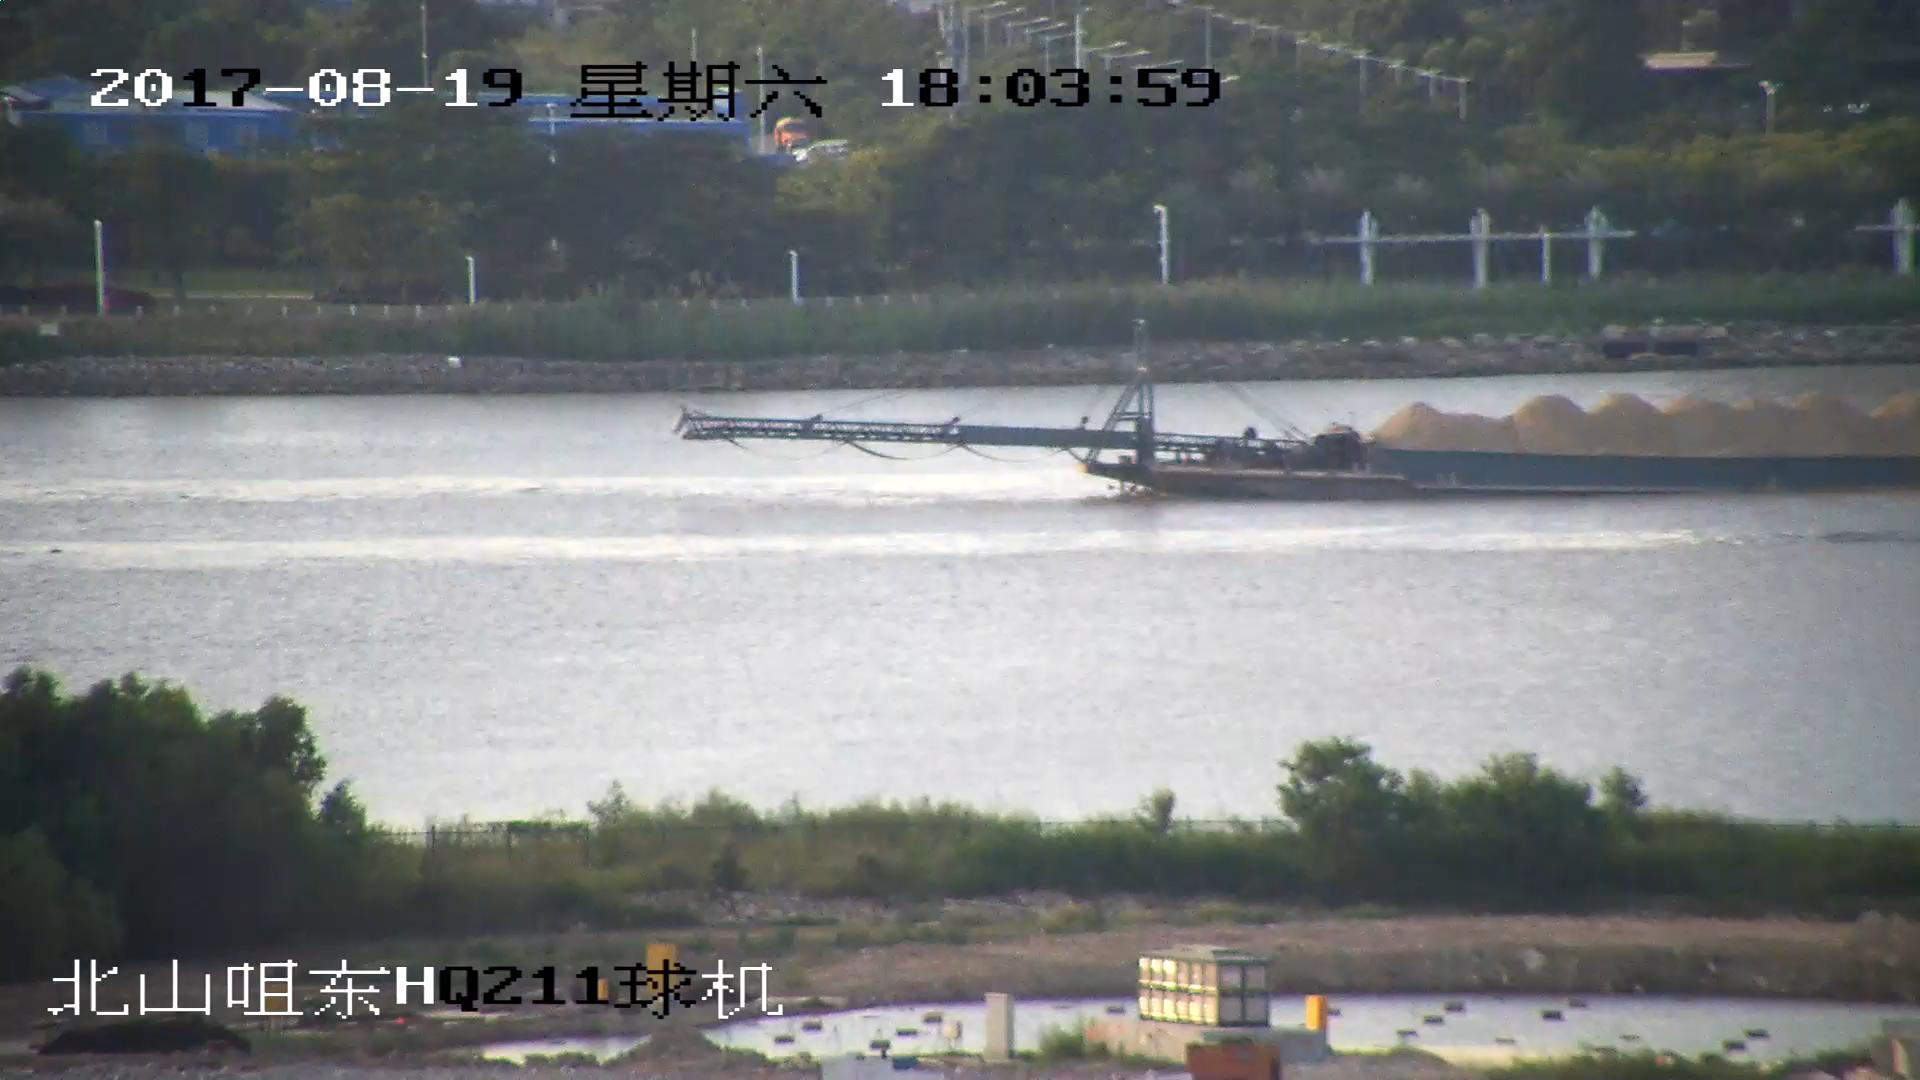ore carrier: (681, 330, 1920, 501)
